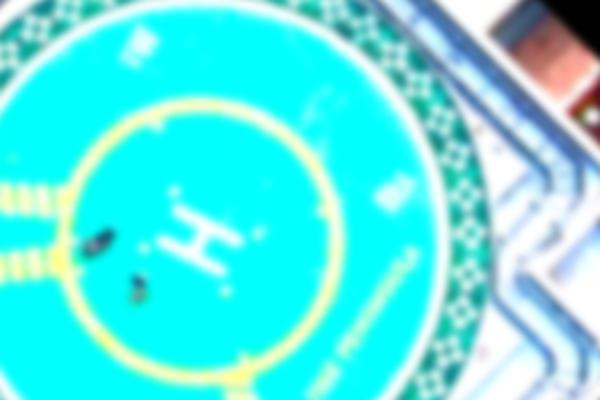Apron: (55, 93, 347, 385)
